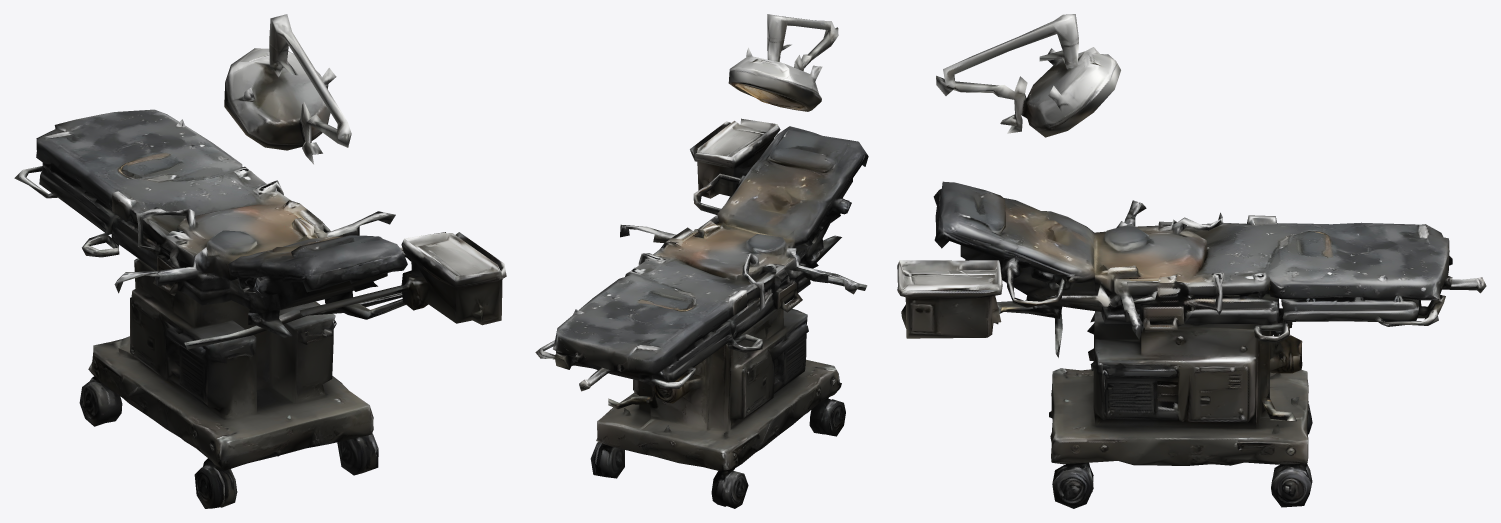
File: xd_surgery.glb
3 renders of one model, left to right at view 1: azimuth 30°, elevation 25°; view 2: azimuth 150°, elevation 25°; view 3: azimuth 270°, elevation 25°, orthographic. The views are drawn at different scales.
Visible parts, largest first — view 1: tripo_node_5eab0c22-248e-45e3-b85c-19ffdcc9daf2; view 2: tripo_node_5eab0c22-248e-45e3-b85c-19ffdcc9daf2; view 3: tripo_node_5eab0c22-248e-45e3-b85c-19ffdcc9daf2.
Boxes of the visible parts, <box> form: tripo_node_5eab0c22-248e-45e3-b85c-19ffdcc9daf2: <box>14,14,506,508</box>; tripo_node_5eab0c22-248e-45e3-b85c-19ffdcc9daf2: <box>535,14,868,508</box>; tripo_node_5eab0c22-248e-45e3-b85c-19ffdcc9daf2: <box>897,14,1486,508</box>.
Bounding box in the file's own units: 0.5247 × 0.8472 × 1.
1 material, 1 textured.
